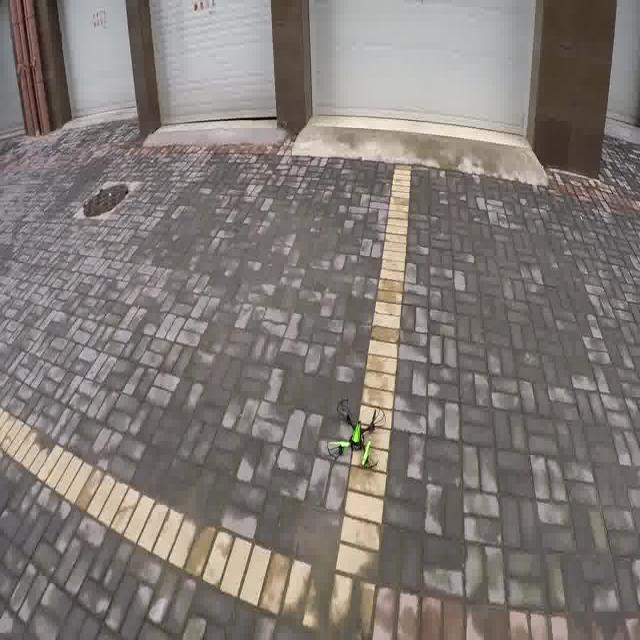drone: (320, 390, 391, 490)
